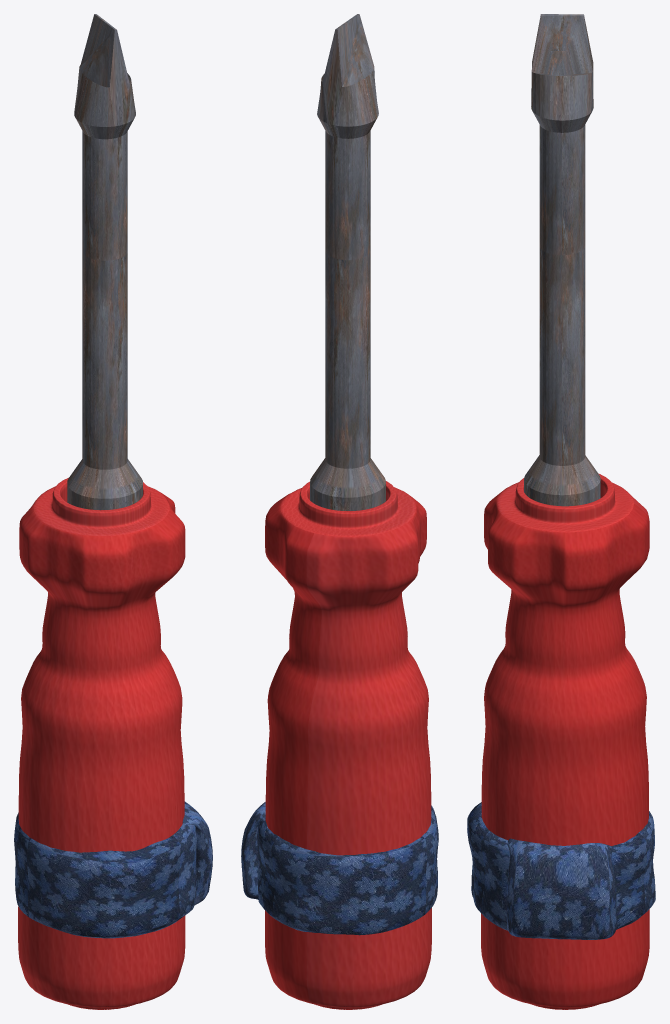
The model's file is Chave_4.fbx.
The picture shows the model from 3 angles, left to right: view 1: azimuth 30°, elevation 25°; view 2: azimuth 150°, elevation 25°; view 3: azimuth 270°, elevation 25°; orthographic projection.
Visible parts, largest first — view 1: Cylinder.010, Cylinder.002, Torus.003; view 2: Cylinder.010, Cylinder.002, Torus.003; view 3: Cylinder.010, Cylinder.002, Torus.003.
Boxes of the visible parts, x1=… form: Cylinder.010: x1=18, y1=477, x2=185, y2=1009; Cylinder.002: x1=67, y1=14, x2=142, y2=510; Torus.003: x1=14, y1=801, x2=212, y2=938; Cylinder.010: x1=265, y1=481, x2=431, y2=1009; Cylinder.002: x1=310, y1=14, x2=385, y2=510; Torus.003: x1=241, y1=802, x2=438, y2=935; Cylinder.010: x1=481, y1=473, x2=649, y2=1009; Cylinder.002: x1=524, y1=14, x2=600, y2=506; Torus.003: x1=467, y1=802, x2=655, y2=939.
Size of the model in its own units: 211 by 1194 by 209.
Materials: 3 (3 with a texture image).
